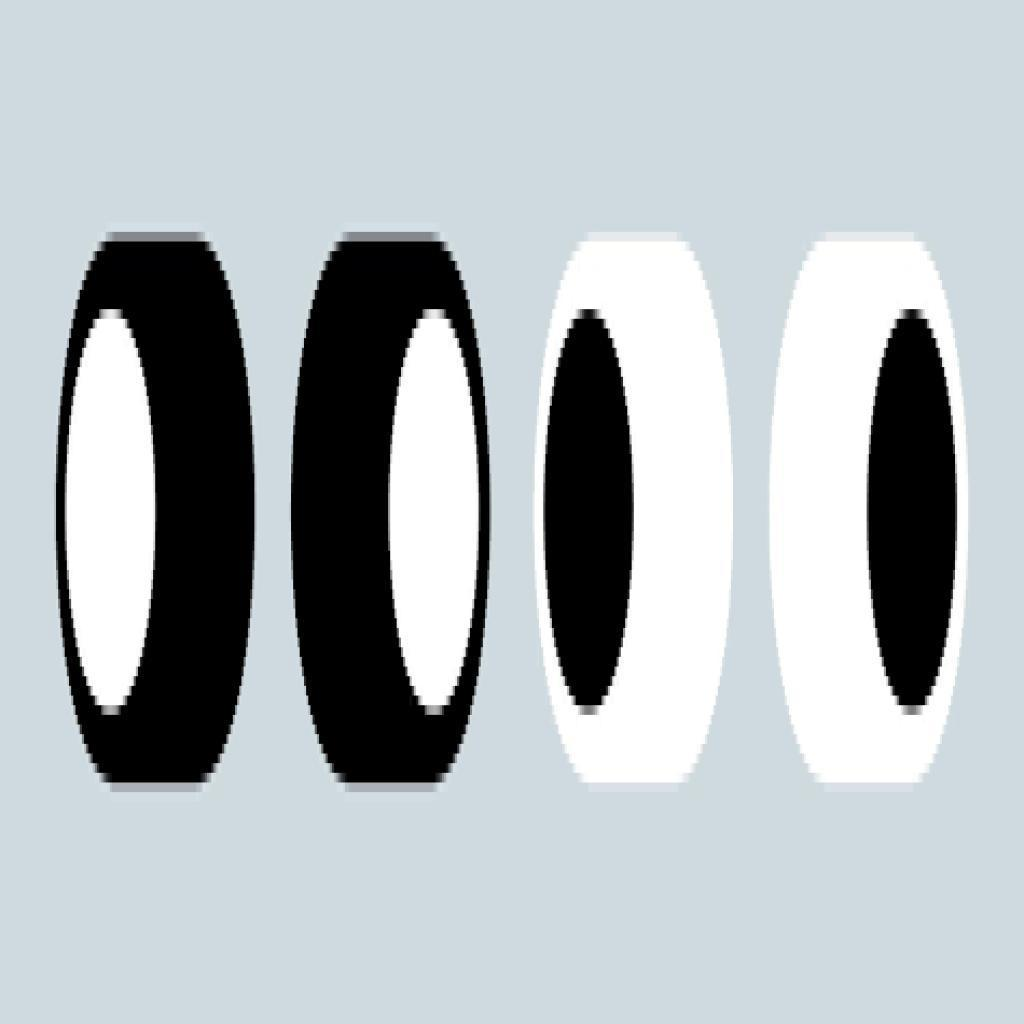switch: (532, 234, 738, 785), (53, 239, 258, 790), (291, 237, 493, 790), (770, 239, 971, 785)
